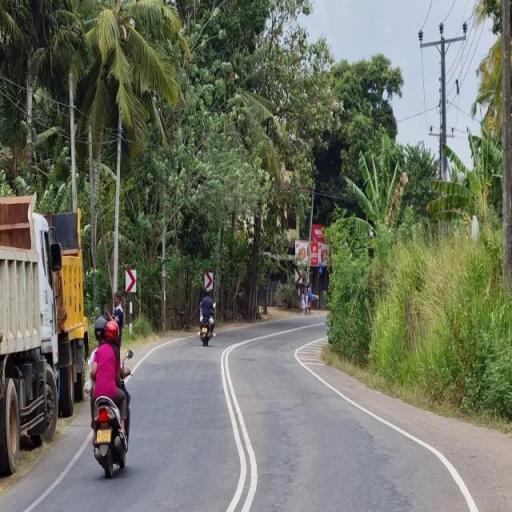double_white_line: (219, 341, 261, 511), (24, 429, 91, 512)
